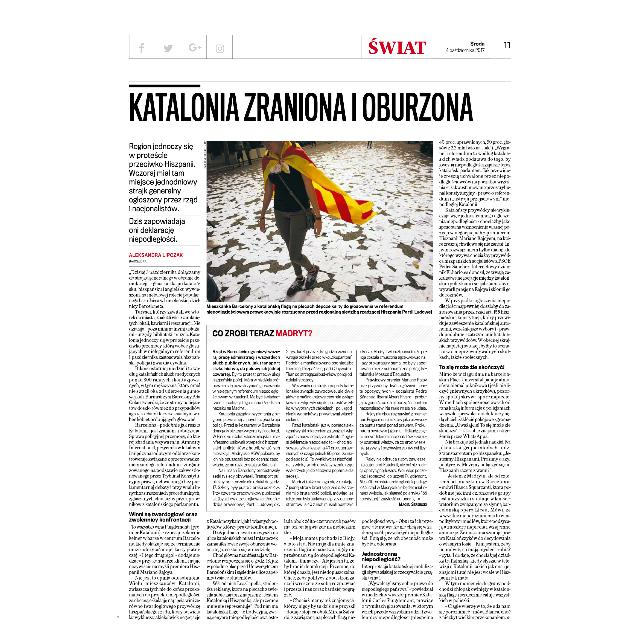article: (127, 83, 515, 621)
